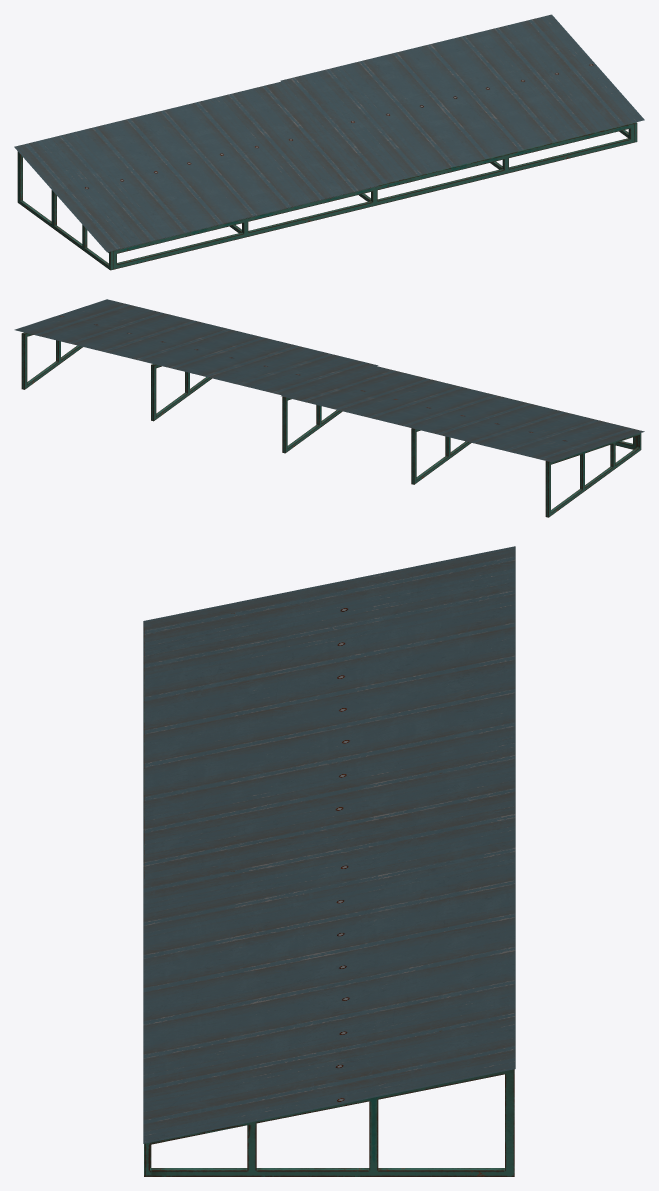
The model's file is awning compiled.fbx.
3 renders of one model, top to bottom at view 1: azimuth 30°, elevation 25°; view 2: azimuth 150°, elevation 25°; view 3: azimuth 270°, elevation 25°, orthographic. The views are drawn at different scales.
Parts seen in each view (by area): view 1: awning lp; view 2: awning lp; view 3: awning lp.
Part boxes in pixels (x1,y1,x2,y2): awning lp: (14, 14, 644, 270); awning lp: (14, 299, 644, 517); awning lp: (143, 546, 515, 1176).
Bounding box in the file's own units: 4 × 1.2 × 0.4098.
